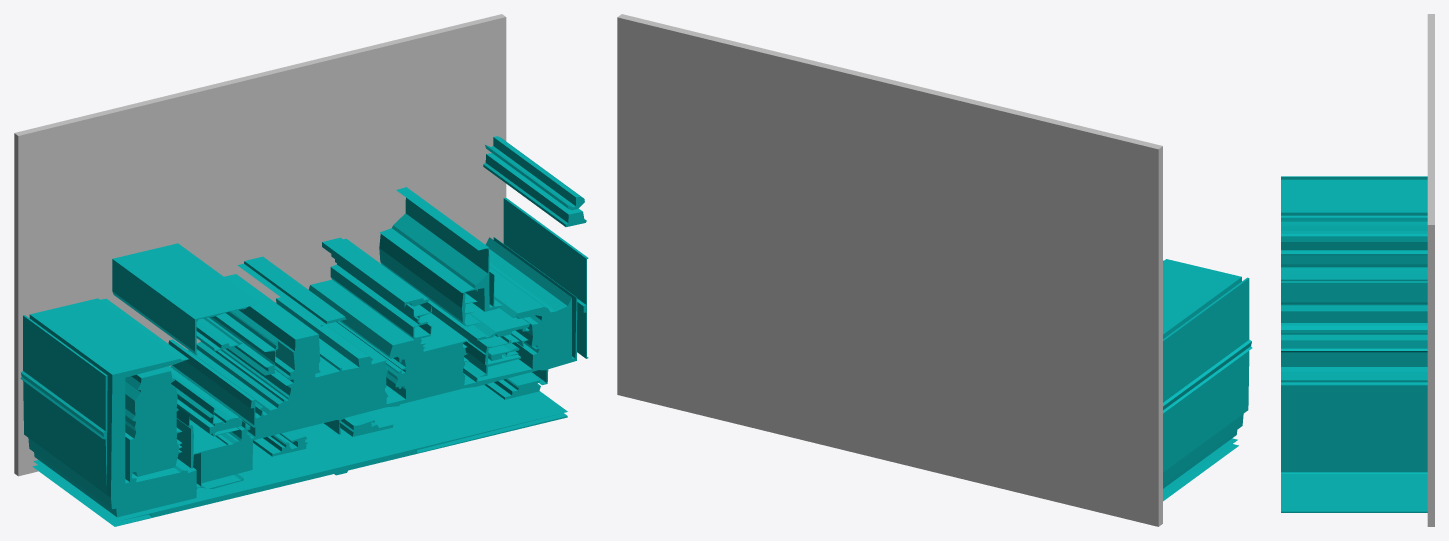
3 views of the same model, side by side, from view 1: azimuth 30°, elevation 25°; view 2: azimuth 150°, elevation 25°; view 3: azimuth 270°, elevation 25° (orthographic). The views are drawn at different scales.
Parts seen in each view (by area): view 1: world; view 2: world; view 3: world.
Part boxes in pixels (x1=…): world: x1=14, y1=14, x2=588, y2=526; world: x1=617, y1=14, x2=1252, y2=526; world: x1=1281, y1=14, x2=1434, y2=526.
Size of the model in its own units: 10.23 by 6.82 by 3.15.
